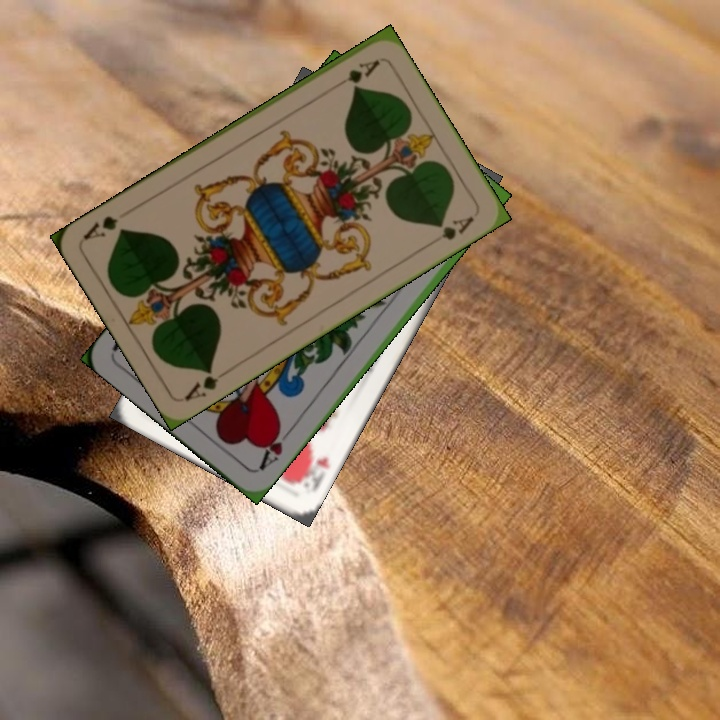GA: (180, 363, 233, 404), (329, 55, 383, 92)
HA: (255, 421, 296, 474)
HK: (293, 451, 333, 495)
